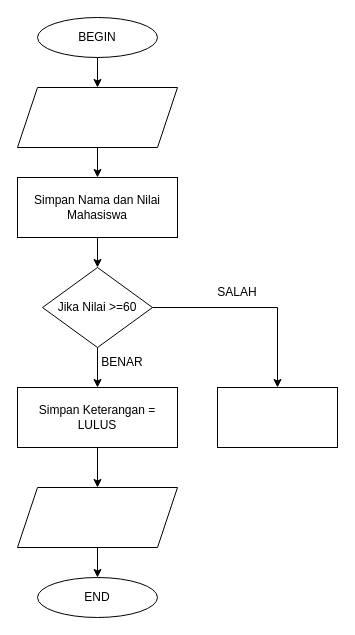
This 355x635 diagram has some shape labels left out. The shapes that lost their labels are listed below. From the top down, each one's centre as x and y in pixels, then its label:
At point 97,117: "Input Nama dan Nilai Mahasiswa".
At point 277,417: "Simpan Keterangan = TIDAK LULUS".
At point 97,517: "Tampilkan Nama dan Keterangan".
